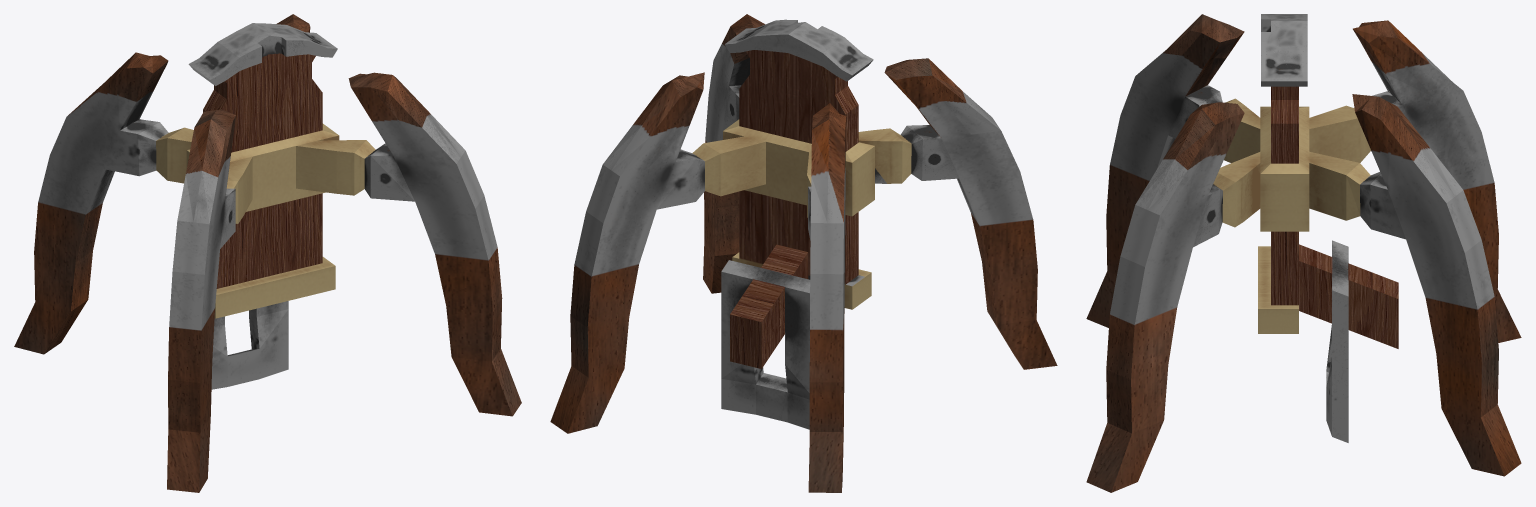
Rendered from Dual Cross Bow.fbx.
3 renders of one model, left to right at view 1: azimuth 30°, elevation 25°; view 2: azimuth 150°, elevation 25°; view 3: azimuth 270°, elevation 25°, orthographic. The views are drawn at different scales.
Parts seen in each view (by area): view 1: Dual_Cross_Bow; view 2: Dual_Cross_Bow; view 3: Dual_Cross_Bow.
Boxes of the visible parts, <box> form: Dual_Cross_Bow: <box>14,14,521,492</box>; Dual_Cross_Bow: <box>550,14,1057,492</box>; Dual_Cross_Bow: <box>1086,14,1521,492</box>.
Size of the model in its own units: 234 by 235 by 233.
